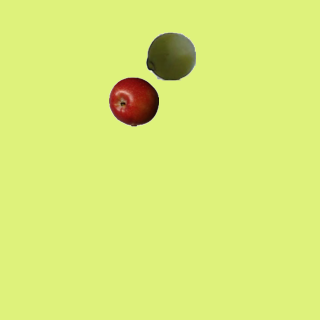Apple Braeburn: (108, 76, 158, 126)
Grape White 4: (145, 30, 195, 80)
